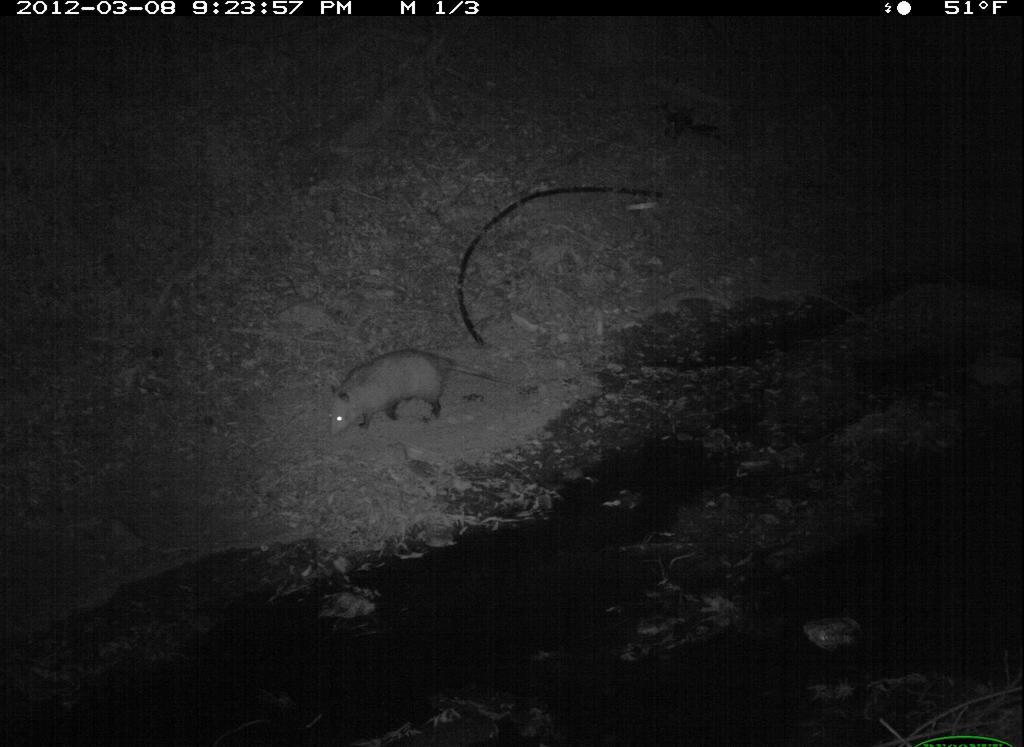opossum: (323, 344, 511, 443)
